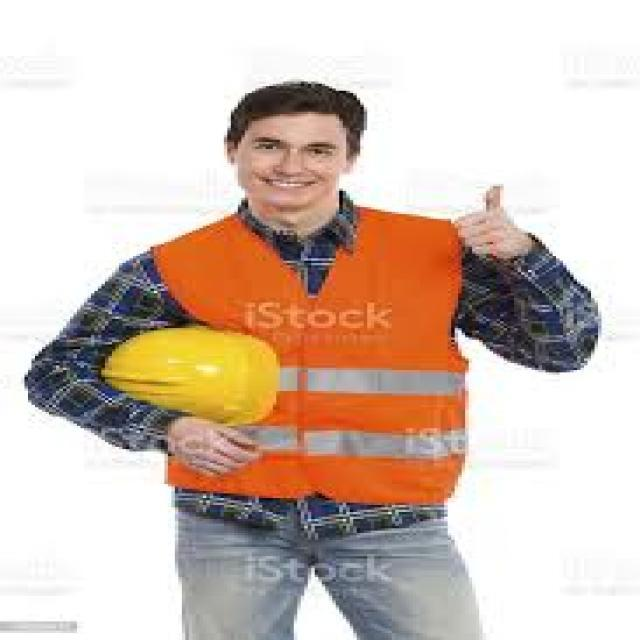NoHelmet: (225, 80, 369, 212)
